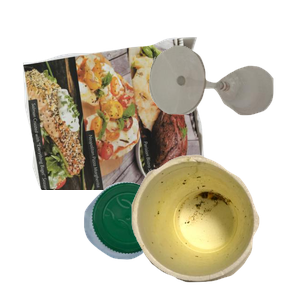glass: (147, 43, 300, 151)
paper: (20, 34, 221, 214)
plastic: (81, 179, 239, 300)
trash: (129, 152, 300, 300)
